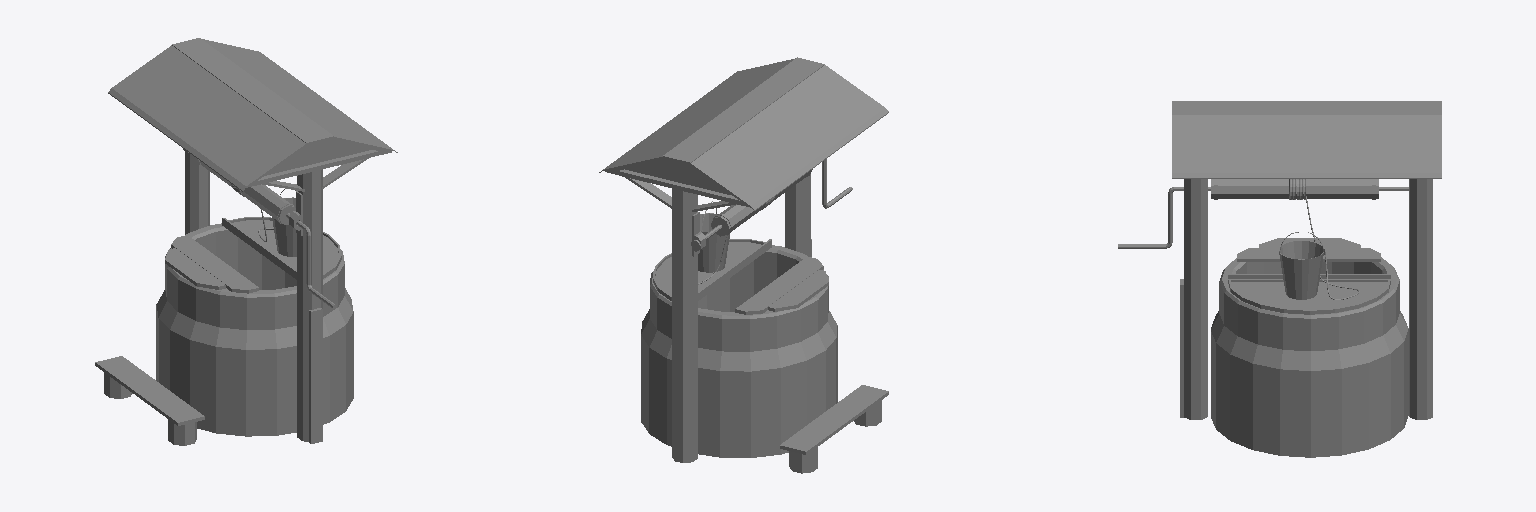
File: Well.obj
The picture shows the model from 3 angles: view 1: azimuth 30°, elevation 25°; view 2: azimuth 150°, elevation 25°; view 3: azimuth 270°, elevation 25°; orthographic projection.
Visible parts, largest first — view 1: Weel; view 2: Weel; view 3: Weel.
Boxes of the visible parts, <box> form: Weel: <box>95,38,397,445</box>; Weel: <box>599,57,888,473</box>; Weel: <box>1118,101,1441,457</box>.
Size of the model in its own units: 55.89 by 82.11 by 78.45.